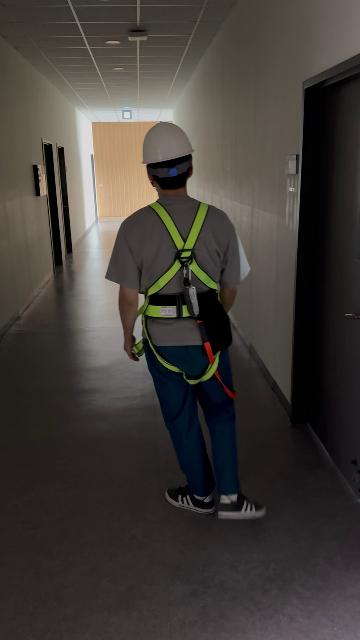helmet_worn: (140, 120, 196, 164)
shoe_not_worn: (165, 483, 216, 514), (217, 492, 265, 519)
vest_worn: (131, 204, 232, 381)
